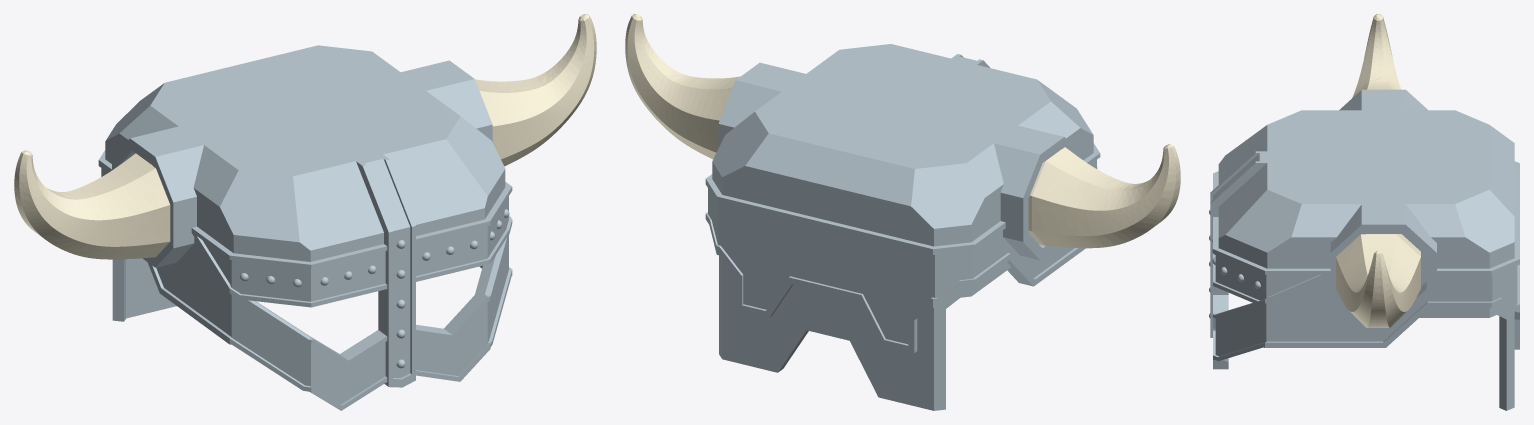
The model's file is Hat_Dragonborn.glb.
3 views of the same model, side by side, from view 1: azimuth 30°, elevation 25°; view 2: azimuth 150°, elevation 25°; view 3: azimuth 270°, elevation 25° (orthographic). The views are drawn at different scales.
Parts seen in each view (by area): view 1: Node1, Node2; view 2: Node1, Node2; view 3: Node1, Node2.
Part boxes in pixels (x1=…): Node1: x1=98, y1=45, x2=512, y2=410; Node2: x1=14, y1=14, x2=596, y2=259; Node1: x1=705, y1=44, x2=1100, y2=410; Node2: x1=625, y1=14, x2=1180, y2=248; Node1: x1=1209, y1=89, x2=1519, y2=410; Node2: x1=1336, y1=14, x2=1420, y2=327.
Bounding box in the file's own units: 170 × 73.95 × 91.4.
